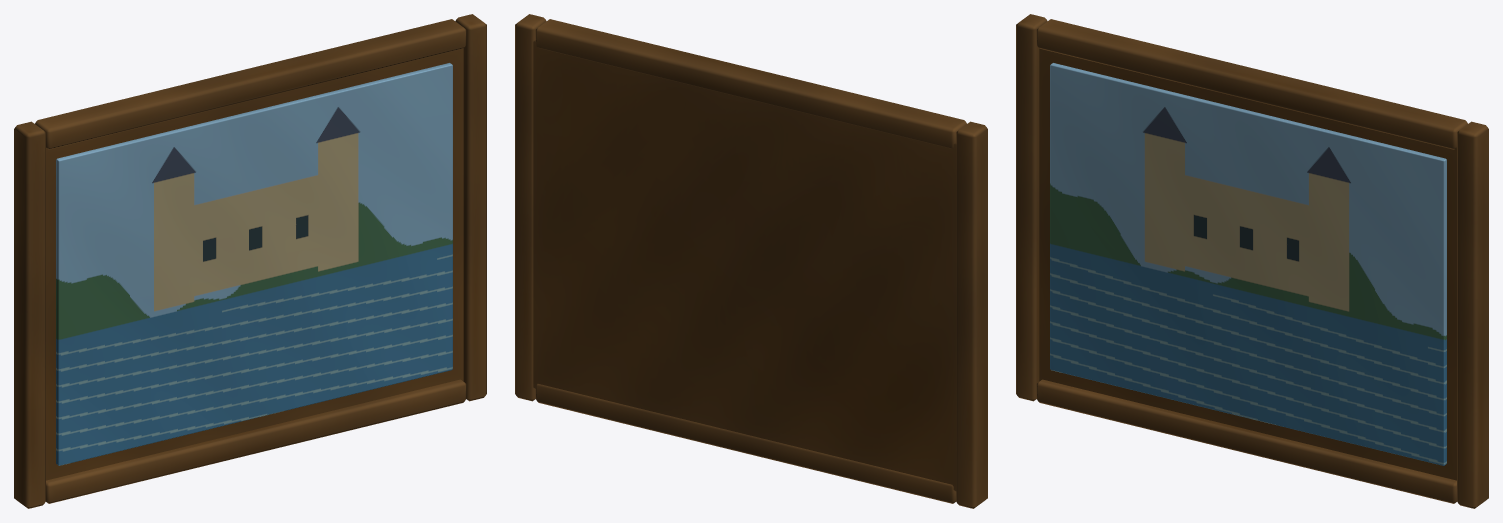
File: Furn_Wall_Painting.fbx
3 renders of one model, left to right at view 1: azimuth 30°, elevation 25°; view 2: azimuth 150°, elevation 25°; view 3: azimuth 330°, elevation 25°, orthographic.
Visible parts, largest first — view 1: Furn_Wall_Painting; view 2: Furn_Wall_Painting; view 3: Furn_Wall_Painting.
Part boxes in pixels (x1,y1,x2,y2): Furn_Wall_Painting: (14,14,486,508); Furn_Wall_Painting: (515,14,987,508); Furn_Wall_Painting: (1016,14,1488,508).
Bounding box in the file's own units: 0.9 × 0.7 × 0.05.
Materials: 2 (2 with a texture image).
